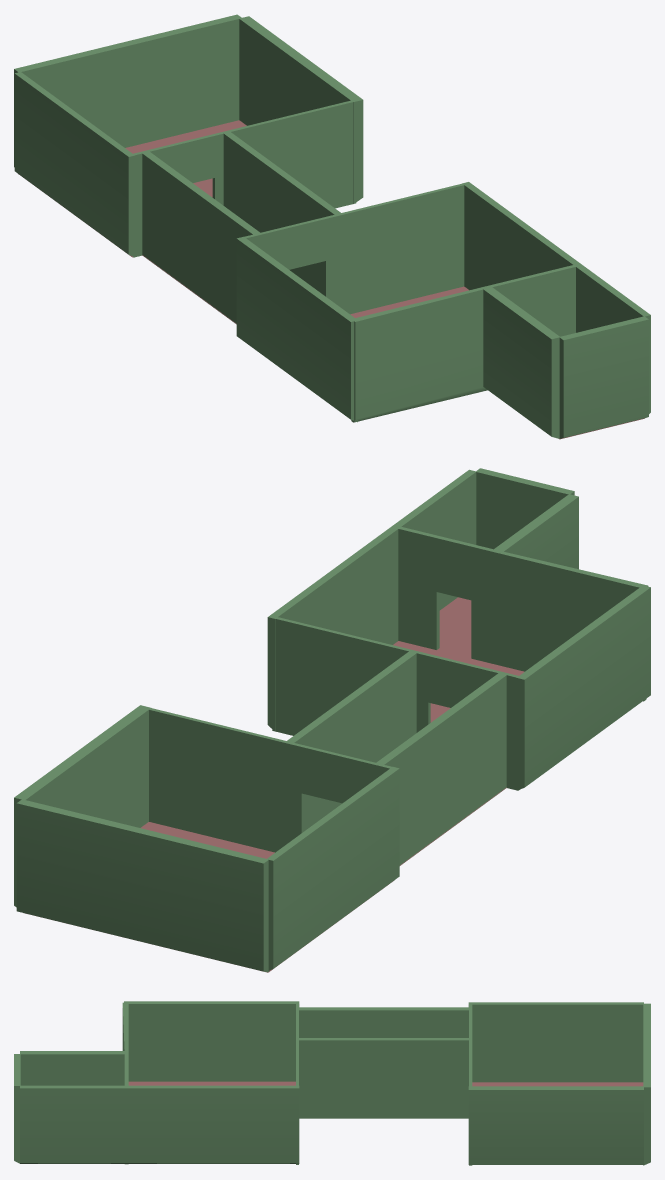
File: RoomBase.fbx
3 views of the same model, one above another, from view 1: azimuth 30°, elevation 25°; view 2: azimuth 150°, elevation 25°; view 3: azimuth 270°, elevation 25° (orthographic). The views are drawn at different scales.
Visible parts, largest first — view 1: Wall_11, Wall_04, Wall_05, Wall_10, Wall_07, Wall_08, Wall_13, Wall_02, Wall_09, Wall_01, Wall_12, Wall_06 (+3 smaller); view 2: Wall_11, Wall_08, Wall_04, Wall_07, Wall_10, Wall_05, Wall_13, Wall_09, Wall_06, Wall_12, Wall_02, Wall_03 (+4 smaller); view 3: Wall_10, Wall_09, Wall_12, Wall_06, Wall_07, Wall_03, Wall_13, Wall_01, Wall_11, Floor_D1, Floor_D, Wall_02 (+2 smaller).
Part boxes in pixels (left/top/right/bottom): Wall_11: left=14, top=14, right=241, bottom=167; Wall_04: left=351, top=265, right=575, bottom=422; Wall_05: left=244, top=183, right=464, bottom=314; Wall_10: left=14, top=72, right=134, bottom=257; Wall_07: left=236, top=236, right=357, bottom=422; Wall_08: left=133, top=100, right=356, bottom=257; Wall_13: left=142, top=151, right=260, bottom=323; Wall_02: left=559, top=316, right=648, bottom=438; Wall_09: left=239, top=16, right=363, bottom=203; Wall_01: left=482, top=286, right=560, bottom=438; Wall_12: left=223, top=131, right=341, bottom=294; Wall_06: left=462, top=182, right=580, bottom=332; Wall_11: left=16, top=799, right=269, bottom=972; Wall_08: left=149, top=708, right=391, bottom=852; Wall_04: left=398, top=527, right=648, bottom=701; Wall_07: left=516, top=585, right=650, bottom=790; Wall_10: left=266, top=767, right=399, bottom=970; Wall_05: left=272, top=617, right=519, bottom=790; Wall_13: left=375, top=672, right=506, bottom=865; Wall_09: left=14, top=705, right=150, bottom=907; Wall_06: left=267, top=525, right=398, bottom=731; Wall_12: left=286, top=651, right=416, bottom=831; Wall_02: left=476, top=468, right=574, bottom=549; Wall_03: left=392, top=469, right=476, bottom=610; Wall_10: left=468, top=1002, right=643, bottom=1082; Wall_09: left=468, top=1086, right=643, bottom=1164; Wall_12: left=298, top=1038, right=470, bottom=1118; Wall_06: left=124, top=1085, right=299, bottom=1163; Wall_07: left=124, top=1001, right=299, bottom=1081; Wall_03: left=20, top=1085, right=126, bottom=1163; Wall_13: left=298, top=1007, right=470, bottom=1037; Wall_01: left=20, top=1051, right=126, bottom=1085; Wall_11: left=643, top=1003, right=650, bottom=1165; Floor_D1: left=472, top=1082, right=643, bottom=1086; Floor_D: left=128, top=1081, right=295, bottom=1085; Wall_02: left=14, top=1054, right=20, bottom=1163.
Size of the model in its own units: 973 by 400 by 2952.
